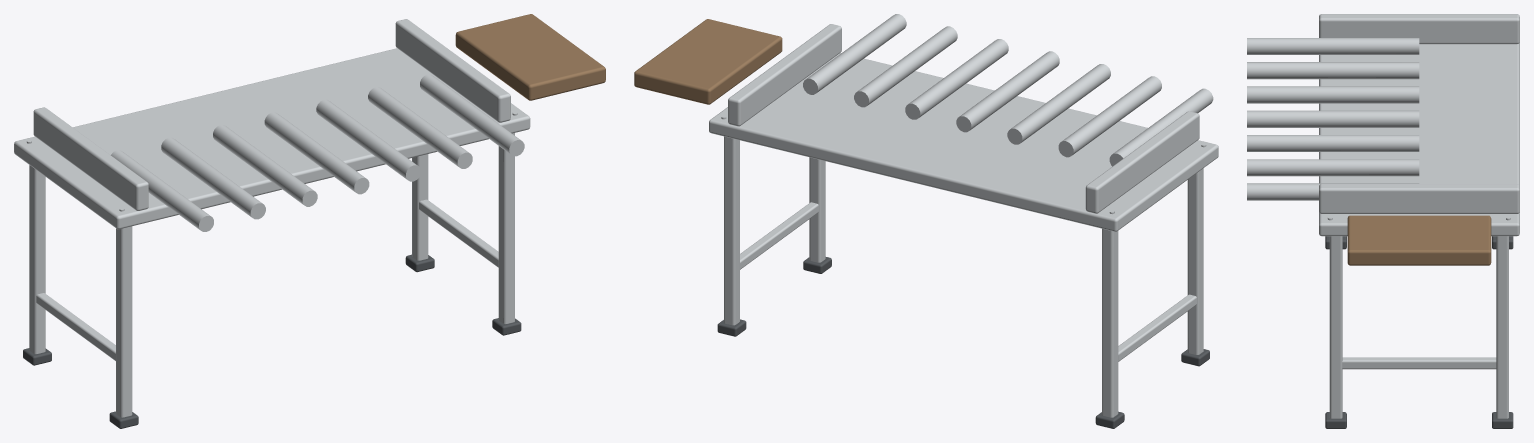
File: chocolate-making-and-confectionery-tunnel-outfeed-tabl-5f947d27__39149.glb
The picture shows the model from 3 angles, left to right: view 1: azimuth 30°, elevation 25°; view 2: azimuth 150°, elevation 25°; view 3: azimuth 270°, elevation 25°; orthographic projection. The views are drawn at different scales.
Parts seen in each view (by area): view 1: tunnel-outfeed-table; view 2: tunnel-outfeed-table; view 3: tunnel-outfeed-table.
Part boxes in pixels (<box>): tunnel-outfeed-table: <box>14,14,605,428</box>; tunnel-outfeed-table: <box>634,14,1218,428</box>; tunnel-outfeed-table: <box>1247,14,1519,428</box>.
Size of the model in its own units: 1.95 by 0.8999 by 0.9499.
